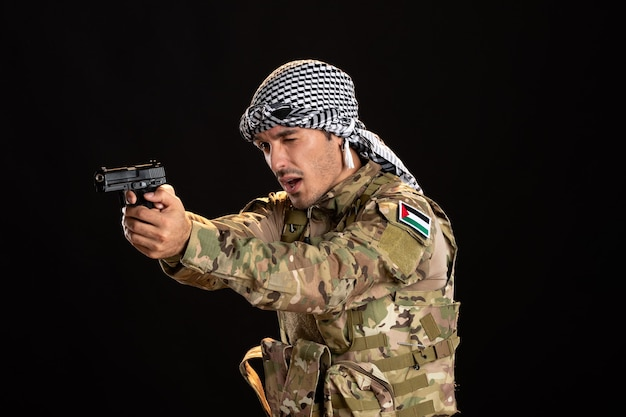gun: (93, 157, 170, 209)
